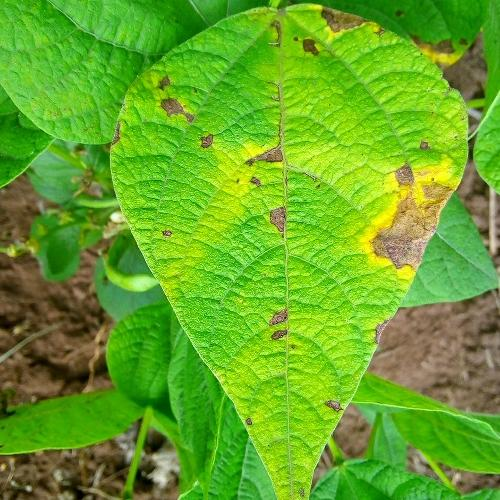mozaik: (327, 154, 460, 302)
